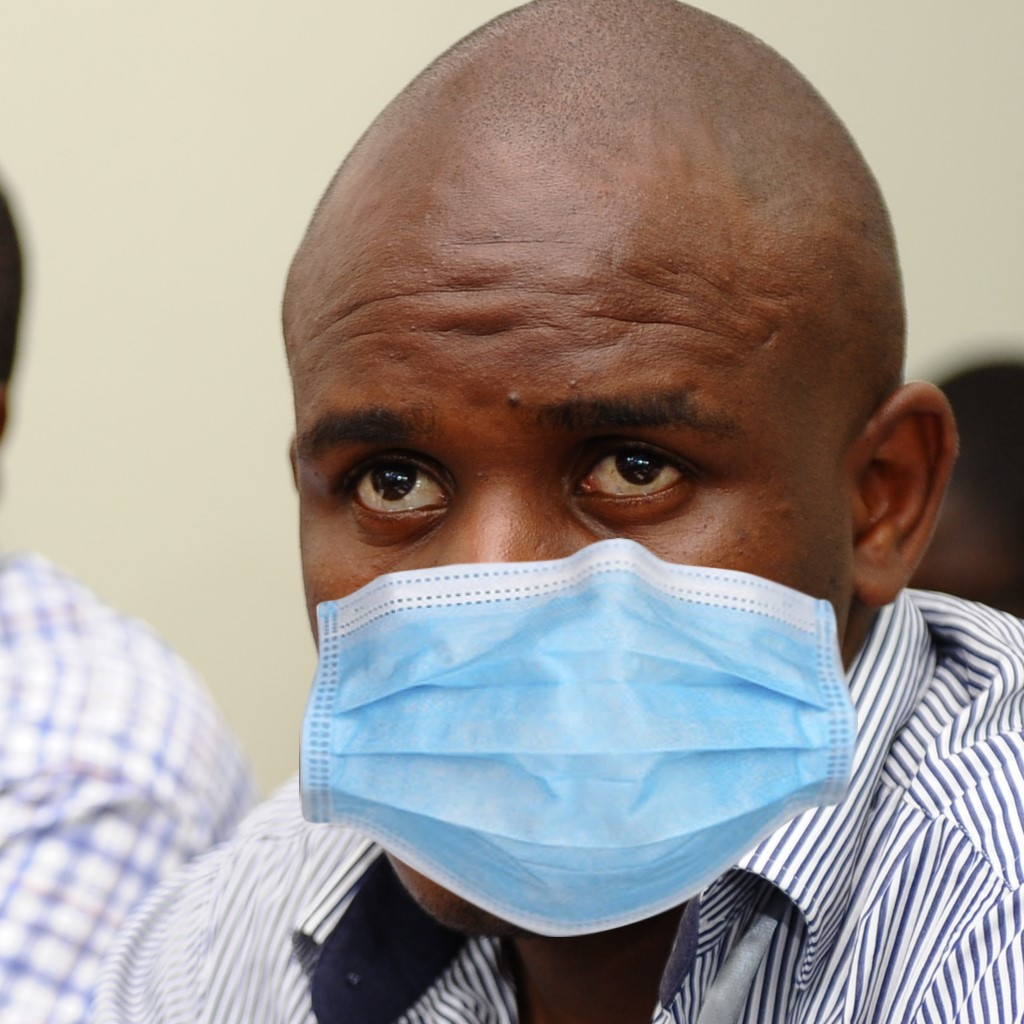con_mascara: (276, 112, 900, 925)
